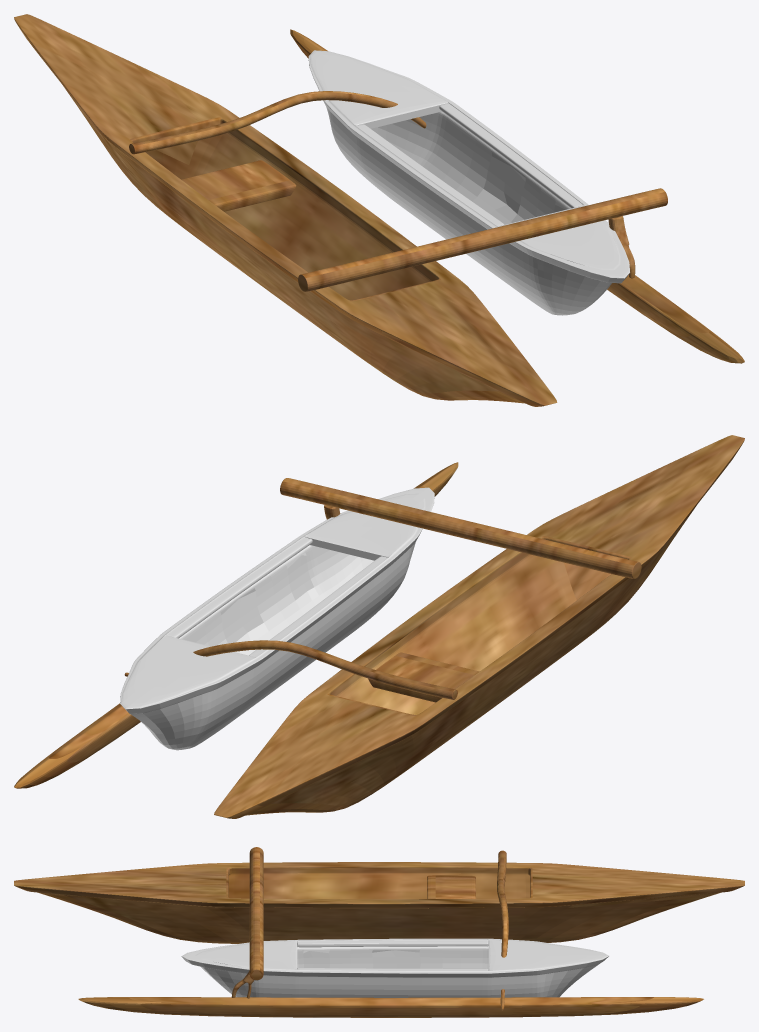
File: pirogue02.fbx
3 renders of one model, top to bottom at view 1: azimuth 30°, elevation 25°; view 2: azimuth 150°, elevation 25°; view 3: azimuth 270°, elevation 25°, orthographic. The views are drawn at different scales.
Visible parts, largest first — view 1: Cube.003, pirogue; view 2: Cube.003, pirogue; view 3: Cube.003, pirogue.
Boxes of the visible parts, x1=… form: Cube.003: x1=14, y1=14, x2=744, y2=406; pirogue: x1=308, y1=50, x2=629, y2=315; Cube.003: x1=14, y1=435, x2=744, y2=818; pirogue: x1=120, y1=487, x2=434, y2=750; Cube.003: x1=14, y1=847, x2=744, y2=1017; pirogue: x1=181, y1=938, x2=608, y2=997.
Bounding box in the file's own units: 886 × 277 × 2256.
